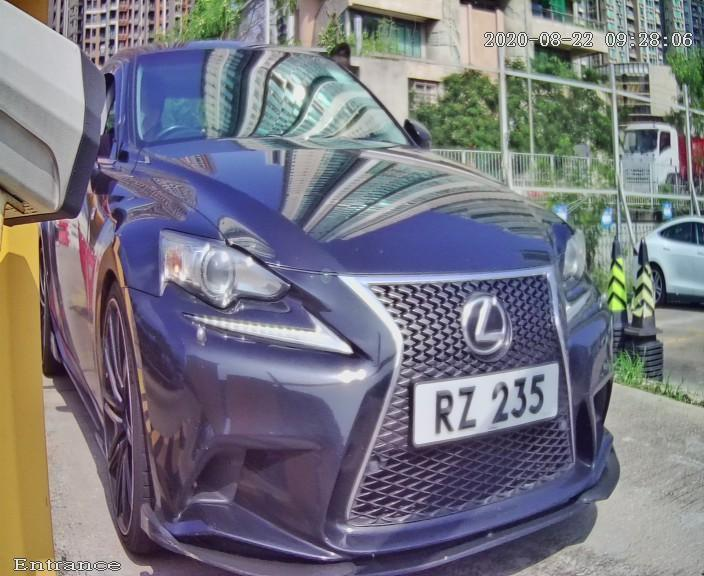Car: (35, 13, 645, 576)
License Plate: (382, 335, 591, 462)
